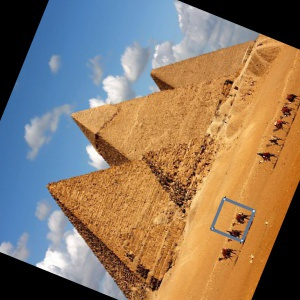square: (208, 194, 257, 246)
